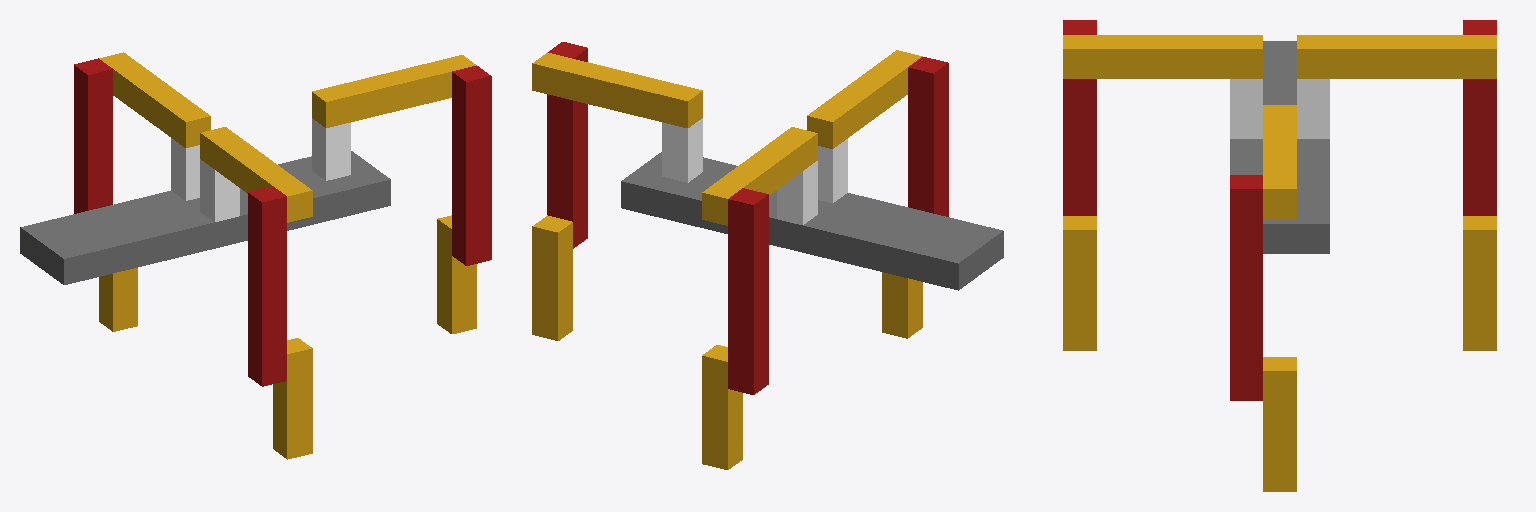
The robot description file, URDF, robot "v0":
<?xml version="1.0" encoding="utf-8"?>
<!-- =================================================================================== -->
<!-- |    This document was autogenerated by xacro from v0Three.urdf.xacro             | -->
<!-- |    EDITING THIS FILE BY HAND IS NOT RECOMMENDED                                 | -->
<!-- =================================================================================== -->
<robot name="v0">
  <material name="grey">
    <color rgba="0.5 0.5 0.5 1"/>
  </material>
  <material name="white">
    <color rgba="1 1 1 1"/>
  </material>
  <material name="yellow">
    <color rgba="0.91 0.7 0.14 1"/>
  </material>
  <material name="red">
    <color rgba="0.71 0.14 0.14 1"/>
  </material>
  <link name="body">
    <visual>
      <geometry>
        <box size="1.3 0.3 0.1"/>
      </geometry>
      <material name="grey"/>
      <origin rpy="0 0 0" xyz="0 0 0.7"/>
    </visual>
    <collision>
      <geometry>
        <box size="1.3 0.3 0.1"/>
      </geometry>
      <origin rpy="0 0 0" xyz="0 0 0.7"/>
    </collision>
    <inertial>
      <mass value="99.84"/>
      <inertia ixx="0.832" ixy="0.0" ixz="0.0" iyy="14.144" iyz="0.0" izz="14.8096"/>
    </inertial>
  </link>
  <!--	<xacro:leg name="l1" reflect="1">-->
  <!--		<origin xyz="0.35 0.1 .75" rpy="0 0 0" />-->
  <!--	</xacro:leg>-->
  <link name="l2_segment_1">
    <visual>
      <geometry>
        <box size="0.1 0.1 0.2"/>
      </geometry>
      <material name="white"/>
      <origin rpy="0 0 0" xyz="0 0 0.1"/>
    </visual>
    <collision>
      <geometry>
        <box size="0.1 0.1 0.2"/>
      </geometry>
      <origin rpy="0 0 0" xyz="0 0 0.1"/>
    </collision>
    <inertial>
      <mass value="5.12"/>
      <inertia ixx="0.0213333333333" ixy="0.0" ixz="0.0" iyy="0.0213333333333" iyz="0.0" izz="0.00853333333333"/>
    </inertial>
  </link>
  <joint name="l2_base_to_joint_1" type="fixed">
    <parent link="body"/>
    <child link="l2_segment_1"/>
    <origin rpy="0 0 0" xyz="0 0.1 0.75"/>
  </joint>
  <link name="l2_segment_2_HIP">
    <visual>
      <geometry>
        <box size="0.1 0.6 0.1"/>
      </geometry>
      <material name="yellow"/>
      <origin rpy="0 0 0" xyz="0 0.25 0"/>
    </visual>
    <collision>
      <geometry>
        <box size="0.1 0.6 0.1"/>
      </geometry>
      <origin rpy="0 0 0" xyz="0 0.25 0"/>
    </collision>
    <inertial>
      <mass value="15.36"/>
      <inertia ixx="0.4736" ixy="0.0" ixz="0.0" iyy="0.0256" iyz="0.0" izz="0.4736"/>
    </inertial>
  </link>
  <joint name="l2_joint_1_to_2" type="revolute">
    <parent link="l2_segment_1"/>
    <child link="l2_segment_2_HIP"/>
    <origin rpy="0 0 0" xyz="0 0 0.25"/>
    <axis xyz="0.0 0.0 1.0"/>
    <limit effort="2048" lower="-1.2" upper="1.2" velocity="20"/>
  </joint>
  <link name="l2_segment_3_THIGH">
    <visual>
      <geometry>
        <box size="0.1 0.1 0.7"/>
      </geometry>
      <material name="red"/>
      <origin rpy="0 0 0" xyz="0 0 -0.3"/>
    </visual>
    <collision>
      <geometry>
        <box size="0.1 0.1 0.7"/>
      </geometry>
      <origin rpy="0 0 0" xyz="0 0 -0.3"/>
    </collision>
    <inertial>
      <mass value="17.92"/>
      <inertia ixx="0.746666666667" ixy="0.0" ixz="0.0" iyy="0.746666666667" iyz="0.0" izz="0.0298666666667"/>
    </inertial>
  </link>
  <joint name="l2_joint_2_to_3" type="revolute">
    <parent link="l2_segment_2_HIP"/>
    <child link="l2_segment_3_THIGH"/>
    <origin rpy="0 0 0" xyz="-0.1 0.5 0"/>
    <axis xyz="1.0 0.0 0.0"/>
    <limit effort="2048" lower="-0.2" upper="0.75" velocity="20"/>
  </joint>
  <link name="l2_segment_4_FOOT">
    <visual>
      <geometry>
        <box size="0.1 0.1 0.4"/>
      </geometry>
      <material name="yellow"/>
      <origin rpy="0 0 0" xyz="0 0 -0.2"/>
    </visual>
    <collision>
      <geometry>
        <box size="0.1 0.1 0.4"/>
      </geometry>
      <origin rpy="0 0 0" xyz="0 0 -0.2"/>
    </collision>
    <inertial>
      <mass value="10.24"/>
      <inertia ixx="0.145066666667" ixy="0.0" ixz="0.0" iyy="0.145066666667" iyz="0.0" izz="0.0170666666667"/>
    </inertial>
  </link>
  <joint name="l2_joint_3_to_4_FOOT" type="revolute">
    <parent link="l2_segment_3_THIGH"/>
    <child link="l2_segment_4_FOOT"/>
    <origin rpy="0 0 0" xyz="0.1 0 -0.55"/>
    <axis xyz="1.0 0.0 0.0"/>
    <limit effort="2048" lower="-0.2" upper="0.5" velocity="20"/>
  </joint>
  <!--	<xacro:leg name="l3" reflect="1">-->
  <!--		<origin xyz="-0.5 0.1 .75" rpy="0 0 0" />-->
  <!--	</xacro:leg>-->
  <!--	<xacro:leg name="r1" reflect="-1">-->
  <!--		<origin xyz="0.35 -0.1 .75" rpy="0 0 0" />-->
  <!--	</xacro:leg>-->
  <link name="r2_segment_1">
    <visual>
      <geometry>
        <box size="0.1 0.1 0.2"/>
      </geometry>
      <material name="white"/>
      <origin rpy="0 0 0" xyz="0 0 0.1"/>
    </visual>
    <collision>
      <geometry>
        <box size="0.1 0.1 0.2"/>
      </geometry>
      <origin rpy="0 0 0" xyz="0 0 0.1"/>
    </collision>
    <inertial>
      <mass value="5.12"/>
      <inertia ixx="0.0213333333333" ixy="0.0" ixz="0.0" iyy="0.0213333333333" iyz="0.0" izz="0.00853333333333"/>
    </inertial>
  </link>
  <joint name="r2_base_to_joint_1" type="fixed">
    <parent link="body"/>
    <child link="r2_segment_1"/>
    <origin rpy="0 0 0" xyz="0 -0.1 0.75"/>
  </joint>
  <link name="r2_segment_2_HIP">
    <visual>
      <geometry>
        <box size="0.1 0.6 0.1"/>
      </geometry>
      <material name="yellow"/>
      <origin rpy="0 0 0" xyz="0 -0.25 0"/>
    </visual>
    <collision>
      <geometry>
        <box size="0.1 0.6 0.1"/>
      </geometry>
      <origin rpy="0 0 0" xyz="0 -0.25 0"/>
    </collision>
    <inertial>
      <mass value="15.36"/>
      <inertia ixx="0.4736" ixy="0.0" ixz="0.0" iyy="0.0256" iyz="0.0" izz="0.4736"/>
    </inertial>
  </link>
  <joint name="r2_joint_1_to_2" type="revolute">
    <parent link="r2_segment_1"/>
    <child link="r2_segment_2_HIP"/>
    <origin rpy="0 0 0" xyz="0 0 0.25"/>
    <axis xyz="0.0 0.0 1.0"/>
    <limit effort="2048" lower="-1.2" upper="1.2" velocity="20"/>
  </joint>
  <link name="r2_segment_3_THIGH">
    <visual>
      <geometry>
        <box size="0.1 0.1 0.7"/>
      </geometry>
      <material name="red"/>
      <origin rpy="0 0 0" xyz="0 0 -0.3"/>
    </visual>
    <collision>
      <geometry>
        <box size="0.1 0.1 0.7"/>
      </geometry>
      <origin rpy="0 0 0" xyz="0 0 -0.3"/>
    </collision>
    <inertial>
      <mass value="17.92"/>
      <inertia ixx="0.746666666667" ixy="0.0" ixz="0.0" iyy="0.746666666667" iyz="0.0" izz="0.0298666666667"/>
    </inertial>
  </link>
  <joint name="r2_joint_2_to_3" type="revolute">
    <parent link="r2_segment_2_HIP"/>
    <child link="r2_segment_3_THIGH"/>
    <origin rpy="0 0 0" xyz="-0.1 -0.5 0"/>
    <axis xyz="1.0 0.0 0.0"/>
    <limit effort="2048" lower="-0.75" upper="0.2" velocity="20"/>
  </joint>
  <link name="r2_segment_4_FOOT">
    <visual>
      <geometry>
        <box size="0.1 0.1 0.4"/>
      </geometry>
      <material name="yellow"/>
      <origin rpy="0 0 0" xyz="0 0 -0.2"/>
    </visual>
    <collision>
      <geometry>
        <box size="0.1 0.1 0.4"/>
      </geometry>
      <origin rpy="0 0 0" xyz="0 0 -0.2"/>
    </collision>
    <inertial>
      <mass value="10.24"/>
      <inertia ixx="0.145066666667" ixy="0.0" ixz="0.0" iyy="0.145066666667" iyz="0.0" izz="0.0170666666667"/>
    </inertial>
  </link>
  <joint name="r2_joint_3_to_4_FOOT" type="revolute">
    <parent link="r2_segment_3_THIGH"/>
    <child link="r2_segment_4_FOOT"/>
    <origin rpy="0 0 0" xyz="0.1 0 -0.55"/>
    <axis xyz="1.0 0.0 0.0"/>
    <limit effort="2048" lower="-0.5" upper="0.2" velocity="20"/>
  </joint>
  <!--	<xacro:leg name="r3" reflect="-1">-->
  <!--		<origin xyz="-0.5 -0.1 .75" rpy="0 0 0" />-->
  <!--	</xacro:leg>-->
  <link name="r4_segment_1">
    <visual>
      <geometry>
        <box size="0.1 0.1 0.2"/>
      </geometry>
      <material name="white"/>
      <origin rpy="0 0 0" xyz="0 0 0.1"/>
    </visual>
    <collision>
      <geometry>
        <box size="0.1 0.1 0.2"/>
      </geometry>
      <origin rpy="0 0 0" xyz="0 0 0.1"/>
    </collision>
    <inertial>
      <mass value="5.12"/>
      <inertia ixx="0.0213333333333" ixy="0.0" ixz="0.0" iyy="0.0213333333333" iyz="0.0" izz="0.00853333333333"/>
    </inertial>
  </link>
  <joint name="r4_base_to_joint_1" type="fixed">
    <parent link="body"/>
    <child link="r4_segment_1"/>
    <origin rpy="0 0 1.57" xyz="0.5 -0. .75"/>
  </joint>
  <link name="r4_segment_2_HIP">
    <visual>
      <geometry>
        <box size="0.1 0.6 0.1"/>
      </geometry>
      <material name="yellow"/>
      <origin rpy="0 0 0" xyz="0 -0.25 0"/>
    </visual>
    <collision>
      <geometry>
        <box size="0.1 0.6 0.1"/>
      </geometry>
      <origin rpy="0 0 0" xyz="0 -0.25 0"/>
    </collision>
    <inertial>
      <mass value="15.36"/>
      <inertia ixx="0.4736" ixy="0.0" ixz="0.0" iyy="0.0256" iyz="0.0" izz="0.4736"/>
    </inertial>
  </link>
  <joint name="r4_joint_1_to_2" type="revolute">
    <parent link="r4_segment_1"/>
    <child link="r4_segment_2_HIP"/>
    <origin rpy="0 0 0" xyz="0 0 0.25"/>
    <axis xyz="0.0 0.0 1.0"/>
    <limit effort="2048" lower="-1.2" upper="1.2" velocity="20"/>
  </joint>
  <link name="r4_segment_3_THIGH">
    <visual>
      <geometry>
        <box size="0.1 0.1 0.7"/>
      </geometry>
      <material name="red"/>
      <origin rpy="0 0 0" xyz="0 0 -0.3"/>
    </visual>
    <collision>
      <geometry>
        <box size="0.1 0.1 0.7"/>
      </geometry>
      <origin rpy="0 0 0" xyz="0 0 -0.3"/>
    </collision>
    <inertial>
      <mass value="17.92"/>
      <inertia ixx="0.746666666667" ixy="0.0" ixz="0.0" iyy="0.746666666667" iyz="0.0" izz="0.0298666666667"/>
    </inertial>
  </link>
  <joint name="r4_joint_2_to_3" type="revolute">
    <parent link="r4_segment_2_HIP"/>
    <child link="r4_segment_3_THIGH"/>
    <origin rpy="0 0 0" xyz="-0.1 -0.5 0"/>
    <axis xyz="1.0 0.0 0.0"/>
    <limit effort="2048" lower="-0.75" upper="0.2" velocity="20"/>
  </joint>
  <link name="r4_segment_4_FOOT">
    <visual>
      <geometry>
        <box size="0.1 0.1 0.4"/>
      </geometry>
      <material name="yellow"/>
      <origin rpy="0 0 0" xyz="0 0 -0.2"/>
    </visual>
    <collision>
      <geometry>
        <box size="0.1 0.1 0.4"/>
      </geometry>
      <origin rpy="0 0 0" xyz="0 0 -0.2"/>
    </collision>
    <inertial>
      <mass value="10.24"/>
      <inertia ixx="0.145066666667" ixy="0.0" ixz="0.0" iyy="0.145066666667" iyz="0.0" izz="0.0170666666667"/>
    </inertial>
  </link>
  <joint name="r4_joint_3_to_4_FOOT" type="revolute">
    <parent link="r4_segment_3_THIGH"/>
    <child link="r4_segment_4_FOOT"/>
    <origin rpy="0 0 0" xyz="0.1 0 -0.55"/>
    <axis xyz="1.0 0.0 0.0"/>
    <limit effort="2048" lower="-0.5" upper="0.2" velocity="20"/>
  </joint>
</robot>

--- Render facts (derived) ---
The picture shows the robot from 3 angles, left to right: view 1: azimuth 30°, elevation 25°; view 2: azimuth 150°, elevation 25°; view 3: azimuth 270°, elevation 25°; orthographic projection.
Model v0 with 13 links and 12 joints (9 revolute, 3 fixed), rooted at body, posed every joint at zero.
Visible links, largest first — view 1: body, r4_segment_3_THIGH, r2_segment_3_THIGH, r4_segment_2_HIP, l2_segment_3_THIGH, l2_segment_2_HIP, r2_segment_2_HIP, r2_segment_4_FOOT, r4_segment_4_FOOT, l2_segment_4_FOOT, r4_segment_1, r2_segment_1 (+1 smaller); view 2: body, l2_segment_3_THIGH, r4_segment_2_HIP, r2_segment_3_THIGH, r4_segment_3_THIGH, r2_segment_2_HIP, r4_segment_4_FOOT, l2_segment_2_HIP, l2_segment_4_FOOT, r2_segment_4_FOOT, r4_segment_1, l2_segment_1 (+1 smaller); view 3: l2_segment_2_HIP, r2_segment_2_HIP, body, r4_segment_3_THIGH, l2_segment_3_THIGH, r2_segment_3_THIGH, l2_segment_4_FOOT, r2_segment_4_FOOT, r4_segment_4_FOOT, r4_segment_2_HIP, l2_segment_1, r2_segment_1.
Link boxes in pixels (x1,y1,x2,y2): body: (20,151,390,284); r4_segment_3_THIGH: (452,66,491,265); r2_segment_3_THIGH: (248,186,286,386); r4_segment_2_HIP: (312,55,476,127); l2_segment_3_THIGH: (74,58,112,213); l2_segment_2_HIP: (99,52,210,147); r2_segment_2_HIP: (200,127,312,222); r2_segment_4_FOOT: (273,338,312,459); r4_segment_4_FOOT: (437,215,476,333); l2_segment_4_FOOT: (99,268,137,331); r4_segment_1: (312,118,350,180); r2_segment_1: (200,159,239,221); body: (621,152,1003,290); l2_segment_3_THIGH: (728,188,768,394); r4_segment_2_HIP: (532,52,702,127); r2_segment_3_THIGH: (908,57,948,216); r4_segment_3_THIGH: (547,42,587,248); r2_segment_2_HIP: (807,50,922,148); r4_segment_4_FOOT: (532,215,572,340); l2_segment_2_HIP: (702,127,817,225); l2_segment_4_FOOT: (702,345,742,469); r2_segment_4_FOOT: (882,272,922,338); r4_segment_1: (662,118,702,182); l2_segment_1: (777,161,817,224); l2_segment_2_HIP: (1297,35,1496,78); r2_segment_2_HIP: (1063,35,1262,78); body: (1230,41,1329,253); r4_segment_3_THIGH: (1230,175,1262,400); l2_segment_3_THIGH: (1463,20,1496,215); r2_segment_3_THIGH: (1063,20,1096,215); l2_segment_4_FOOT: (1463,216,1496,350); r2_segment_4_FOOT: (1063,216,1096,350); r4_segment_4_FOOT: (1263,357,1296,491); r4_segment_2_HIP: (1263,105,1296,219); l2_segment_1: (1297,79,1329,138); r2_segment_1: (1230,79,1262,138).
Size in the robot's own frame: 1.7 by 1.3 by 1 metres.
Geometry: primitives only (box / cylinder / sphere), no mesh files.